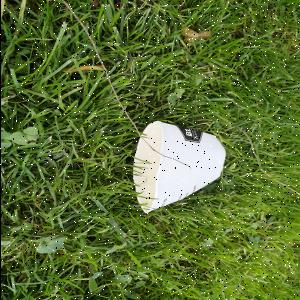Cup: (131, 121, 229, 217)
